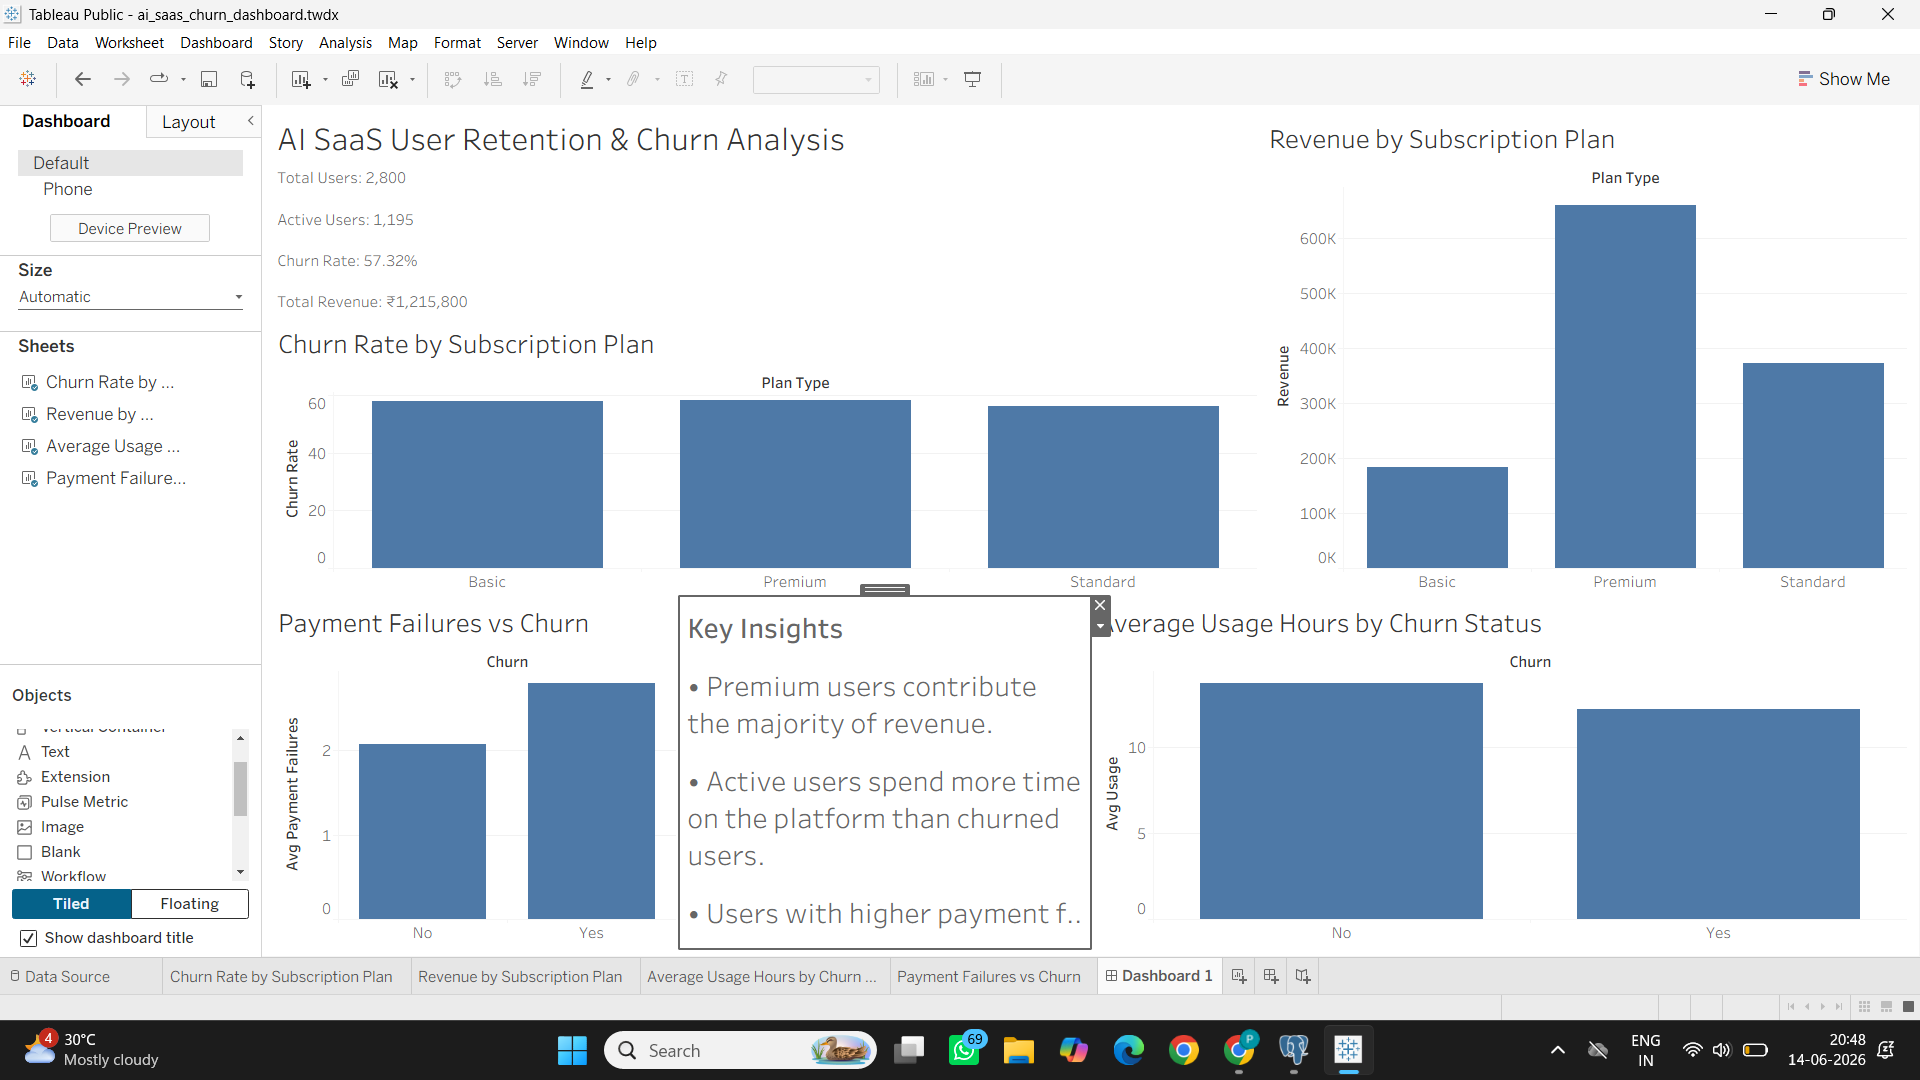

Layout of this report page (visuals, bound fields, positions):
{"tool":"tableau","page":{"name":"Dashboard 1","canvas":[650,860],"ordinal":0},"visuals":[{"type":"title","box":[8,8.2,383,94]},{"type":"worksheet","title":"Revenue by Subscription Plan","mark":"Bar","rows":["revenue"],"cols":["plan_type"],"box":[391,8.2,251,489.4]},{"type":"text","box":[8,102.1,383,158.3]},{"type":"worksheet","title":"Churn Rate by Subscription Plan","mark":"Bar","rows":["churn_rate"],"cols":["plan_type"],"box":[8,260.4,383,237.2]},{"type":"worksheet","title":"Payment Failures vs Churn","mark":"Bar","rows":["avg_payment_failures"],"cols":["churn"],"box":[8,497.6,158.5,354.2]},{"type":"text","box":[166.5,497.6,158.5,354.2]},{"type":"worksheet","title":"Average Usage Hours by Churn Status","mark":"Bar","rows":["avg_usage"],"cols":["churn"],"box":[325,497.6,317,354.2]}]}

Visuals, with their boxes on the page's 650x860 design canvas (x1, y1, x2, y2). These are canvas units, not pixel positions in the 1920x1080 screenshot, which may show the page scaled, cropped or inside an application window:
title: detection(8, 8, 391, 102)
"Revenue by Subscription Plan" worksheet (Bar marks): detection(391, 8, 642, 498)
text: detection(8, 102, 391, 260)
"Churn Rate by Subscription Plan" worksheet (Bar marks): detection(8, 260, 391, 498)
"Payment Failures vs Churn" worksheet (Bar marks): detection(8, 498, 166, 852)
text: detection(166, 498, 325, 852)
"Average Usage Hours by Churn Status" worksheet (Bar marks): detection(325, 498, 642, 852)
